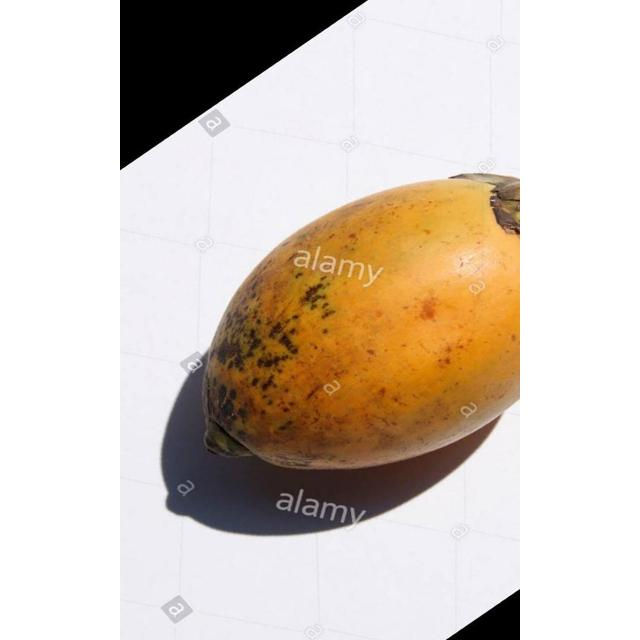good: (201, 175, 520, 473)
